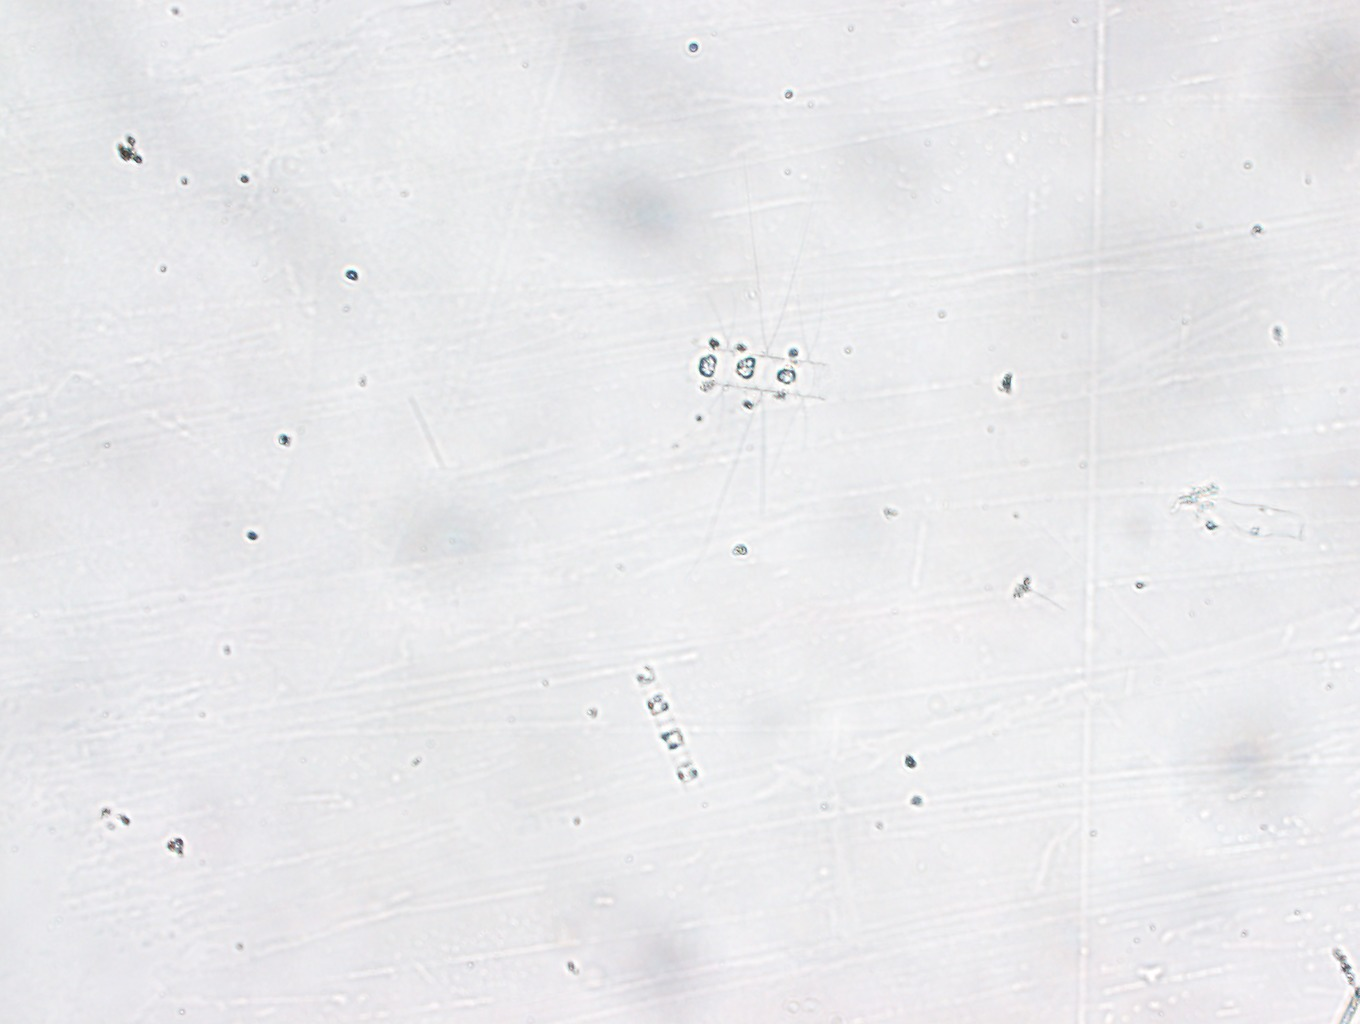chaetoceros: (667, 203, 835, 547)
skeletonema: (635, 666, 697, 790)
